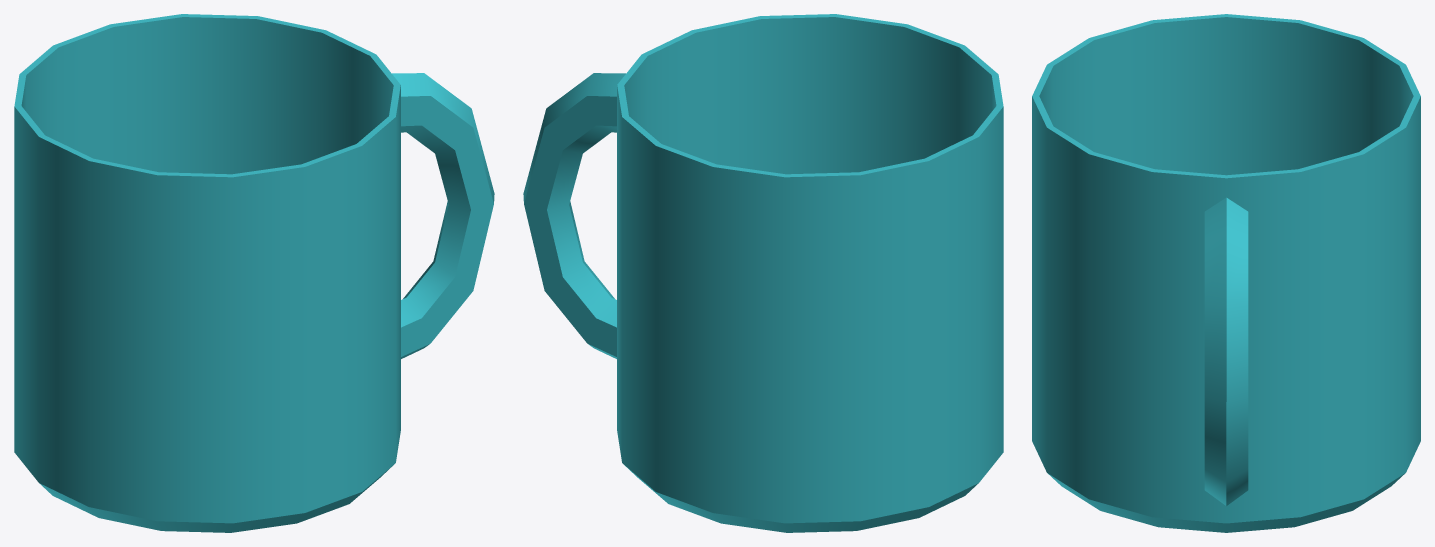
Rendered from Taza09.fbx.
3 views of the same model, side by side, from view 1: azimuth 30°, elevation 25°; view 2: azimuth 150°, elevation 25°; view 3: azimuth 270°, elevation 25° (orthographic).
Visible parts, largest first — view 1: Taza09; view 2: Taza09; view 3: Taza09.
Part boxes in pixels (x1,y1,x2,y2): Taza09: (14, 14, 494, 532); Taza09: (523, 14, 1003, 532); Taza09: (1032, 14, 1420, 532).
Bounding box in the file's own units: 17.78 × 13.51 × 13.17.
